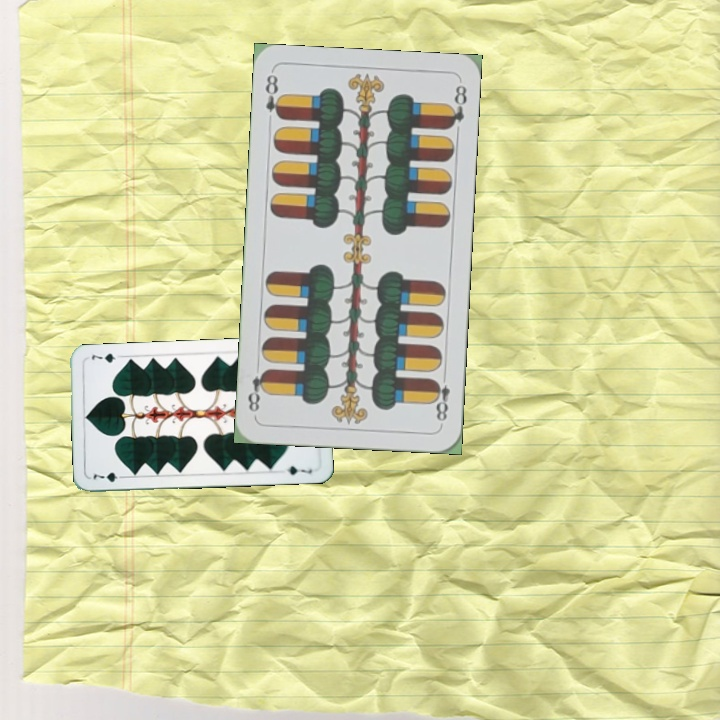E8: (429, 368, 452, 424), (261, 71, 285, 121)
G7: (89, 468, 129, 484)
